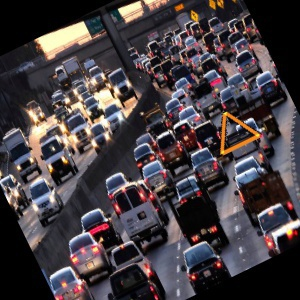triangle: (216, 110, 263, 157)
